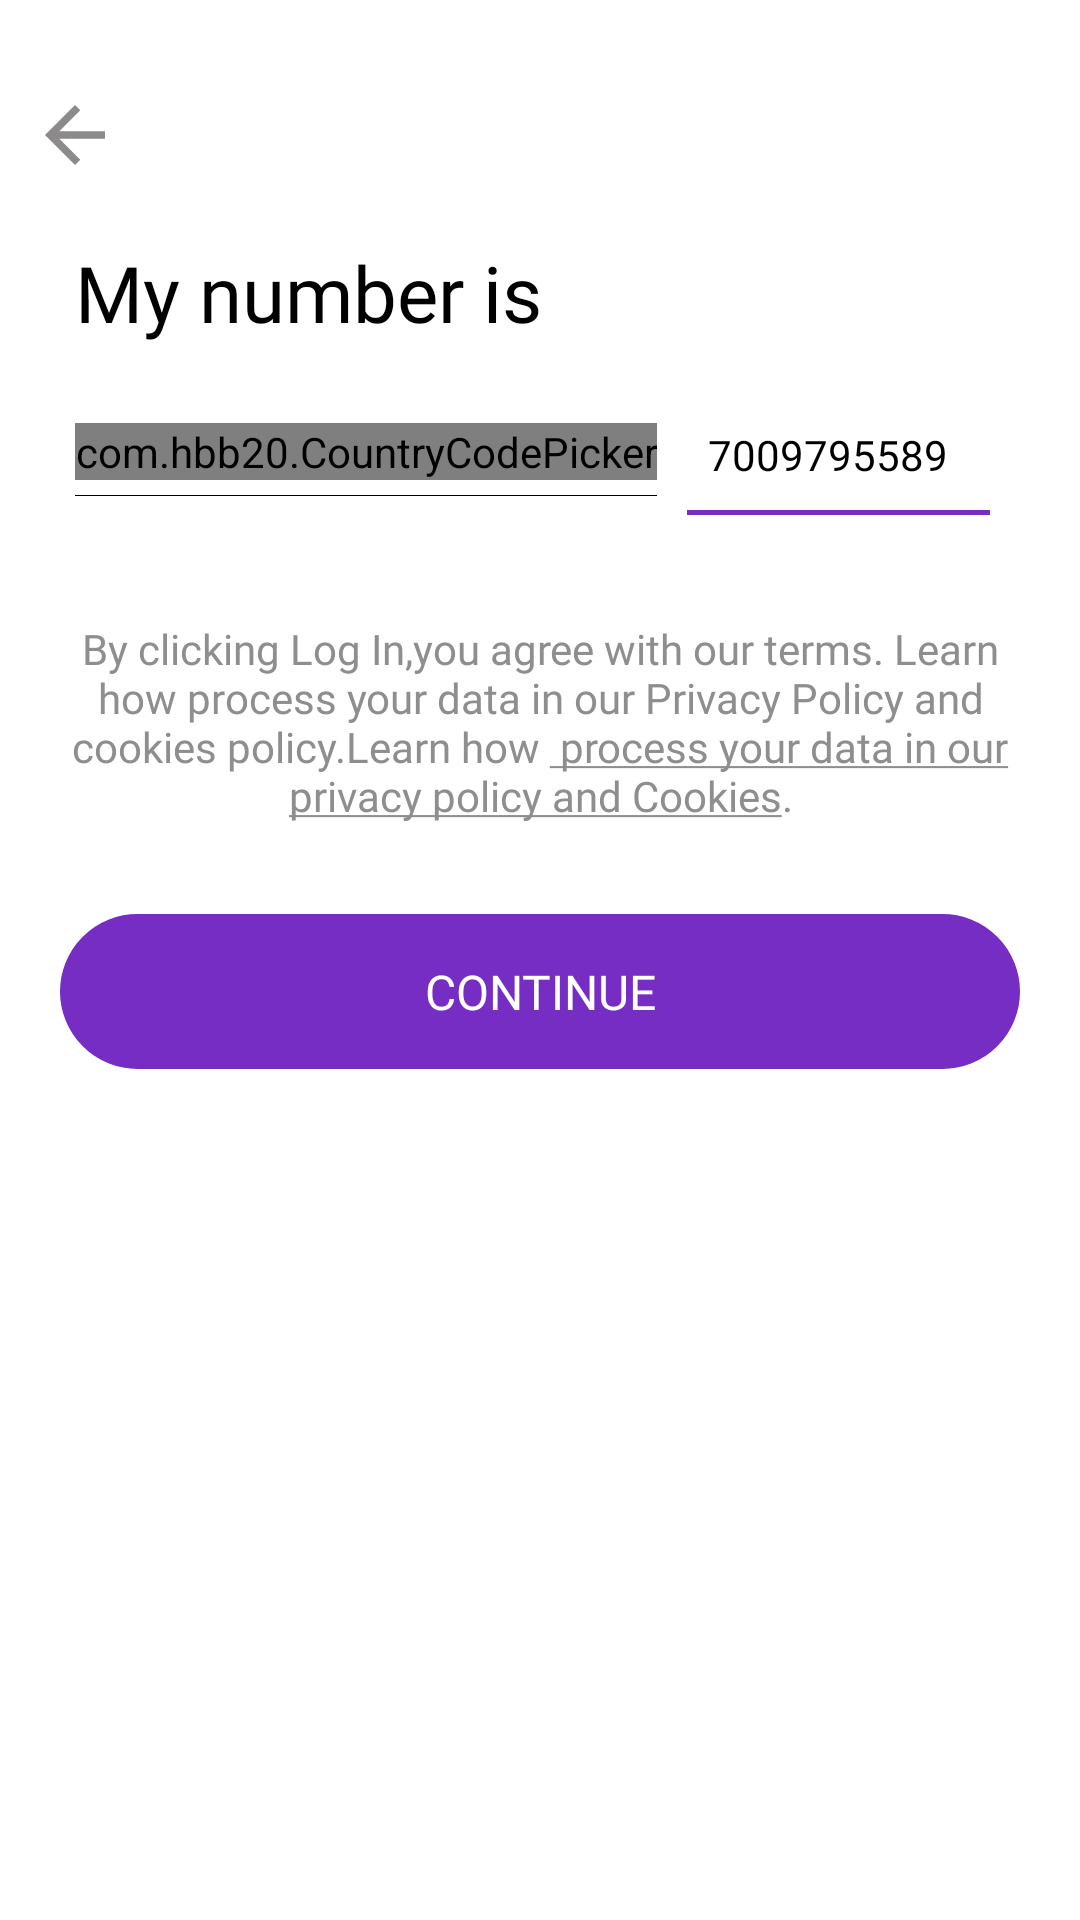

Icons on this 1080 x 1920 Android screen, each with the point to tap as point (x, y):
arrow back: point (75, 135)
